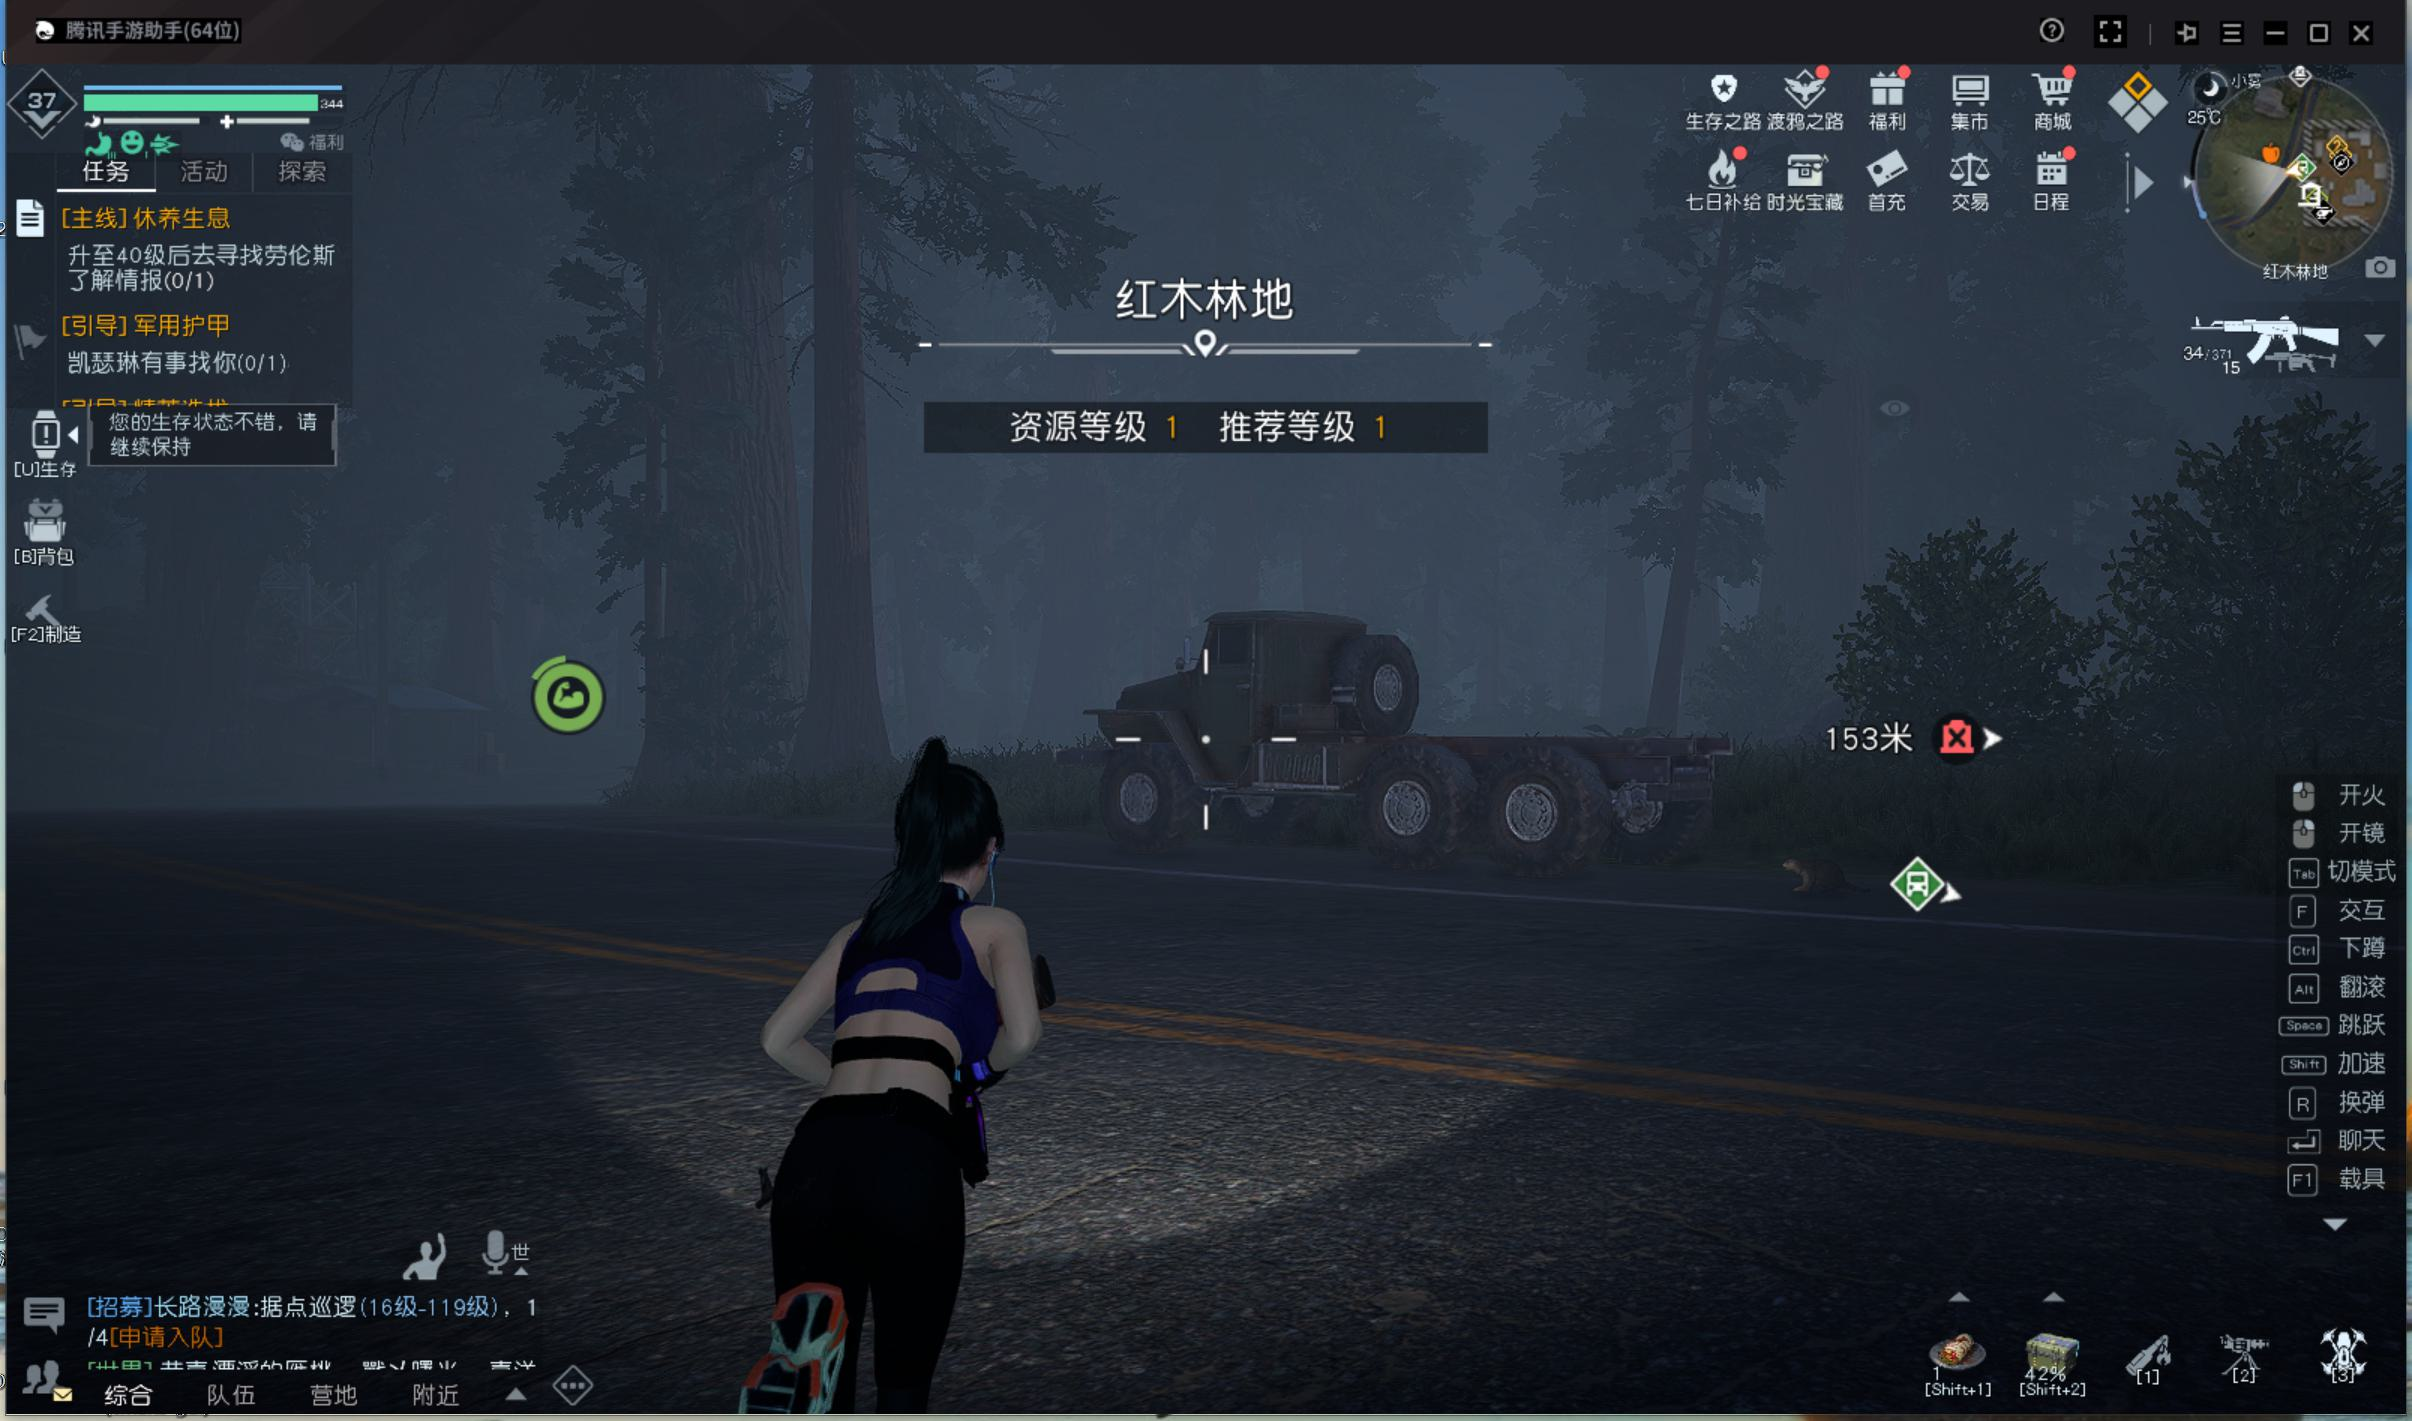tree: (793, 335, 900, 770), (1646, 423, 1702, 744)
